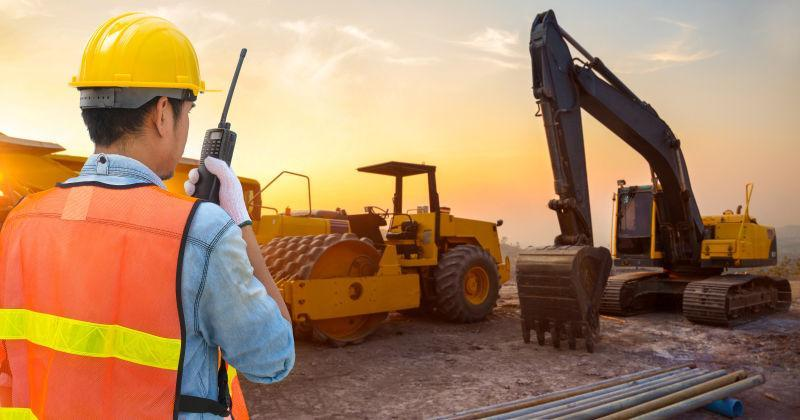helmet: (69, 11, 225, 99)
